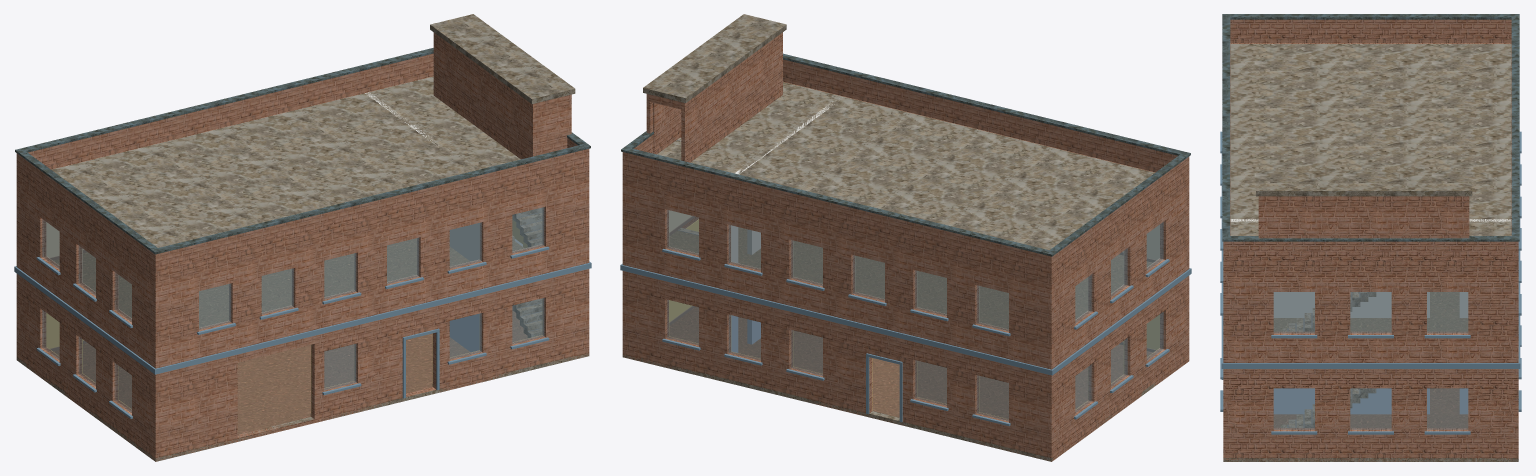
File: ew-workshop.works-v1.lod0.glb
3 views of the same model, side by side, from view 1: azimuth 30°, elevation 25°; view 2: azimuth 150°, elevation 25°; view 3: azimuth 270°, elevation 25° (orthographic). The views are drawn at different scales.
Parts seen in each view (by area): view 1: ew-workshop; view 2: ew-workshop; view 3: ew-workshop.
Boxes of the visible parts, x1,y1,x2,y2 form: ew-workshop: [14, 14, 591, 461]; ew-workshop: [620, 14, 1191, 461]; ew-workshop: [1220, 14, 1521, 461].
Size of the model in its own units: 18.2 by 10.15 by 10.2.
Materials: 5 (3 with a texture image).
